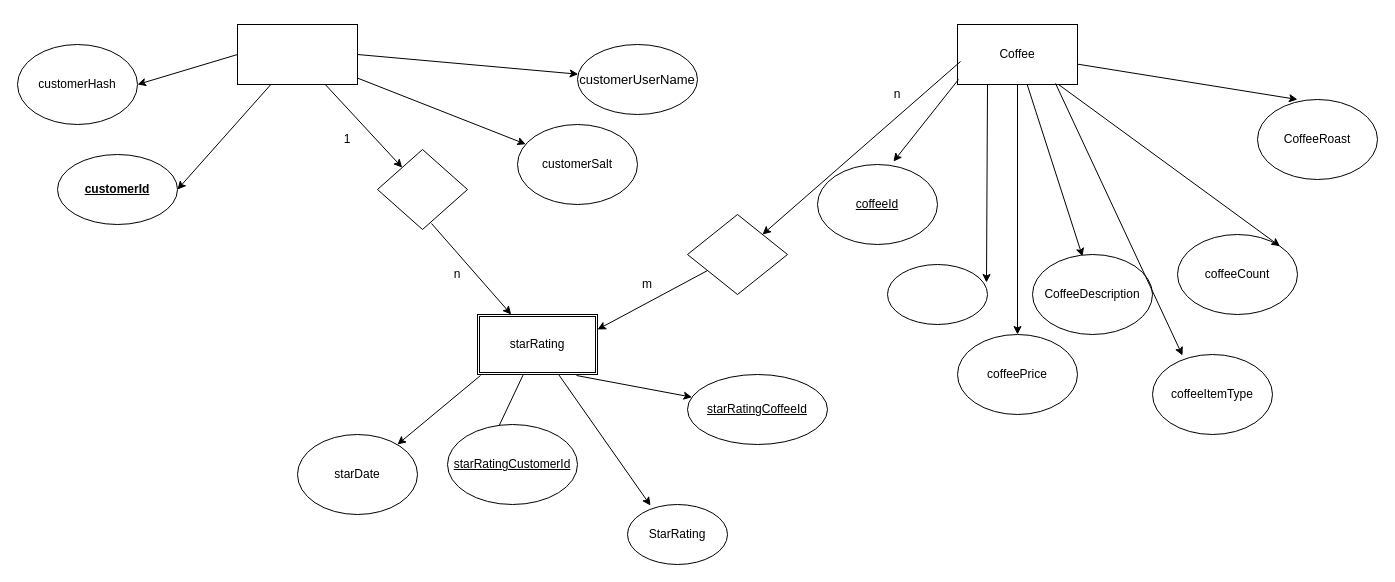
The diagram is 1395 pixels wide and 582 high, and some of its shapes have lost their labels. Here are the shapes that lost their labels. From the top down, the centre of each, then its label:
At pixel 297 54: "customer".
At pixel 422 189: "rates".
At pixel 737 254: "is Rated".
At pixel 937 294: "CoffeeName".
